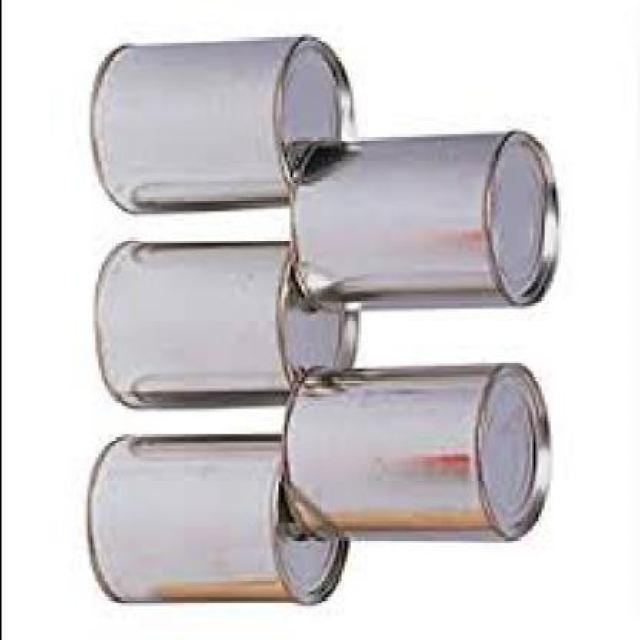METAL: (286, 360, 554, 543), (292, 128, 562, 308), (92, 32, 357, 212), (94, 237, 357, 414), (88, 440, 352, 600)
